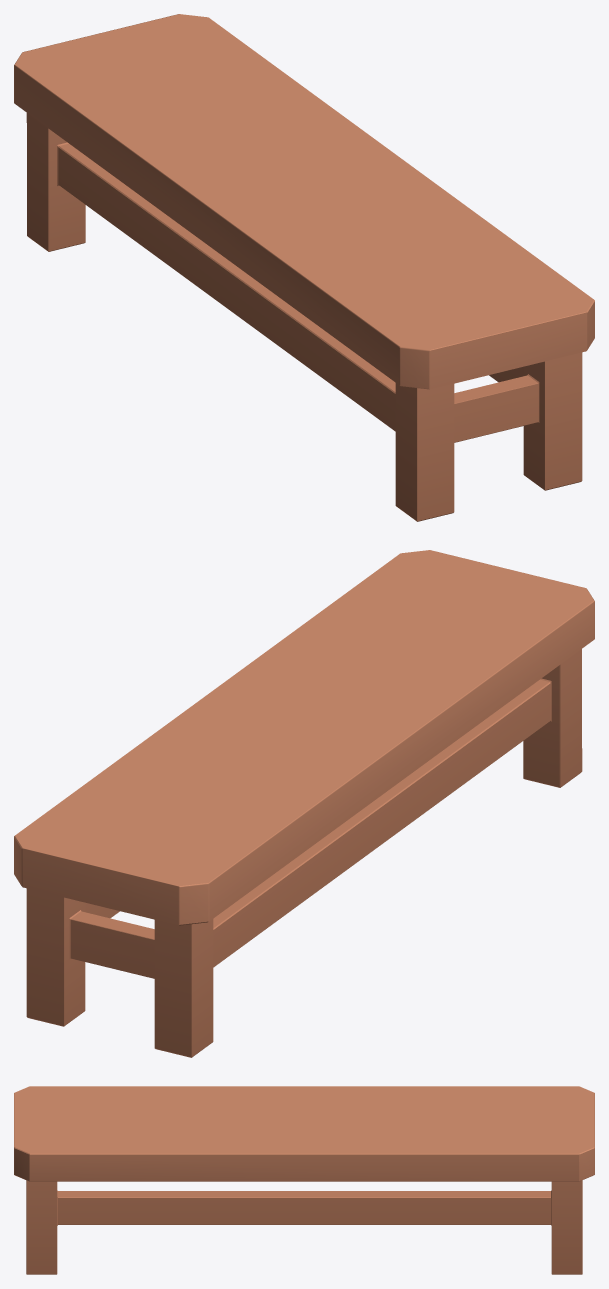
The model's file is kenney-fantasy-town__stall-bench.glb.
3 renders of one model, top to bottom at view 1: azimuth 30°, elevation 25°; view 2: azimuth 150°, elevation 25°; view 3: azimuth 270°, elevation 25°, orthographic. The views are drawn at different scales.
Visible parts, largest first — view 1: stall-bench; view 2: stall-bench; view 3: stall-bench.
Part boxes in pixels (x1,y1,x2,y2): stall-bench: (14, 14, 594, 521); stall-bench: (14, 550, 594, 1057); stall-bench: (14, 1086, 594, 1274).
Size of the model in its own units: 0.26 by 0.2255 by 0.94.
Materials: 1 (1 with a texture image).
